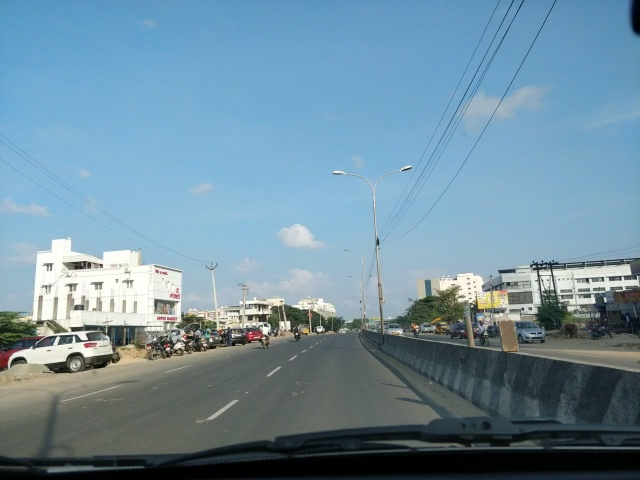car: (4, 325, 112, 383), (501, 318, 551, 344), (446, 319, 470, 338), (387, 321, 407, 340), (314, 323, 324, 334)
motorbike: (475, 316, 494, 346), (166, 333, 188, 358), (591, 320, 619, 339), (143, 339, 164, 362), (259, 321, 272, 347), (292, 323, 301, 343)
